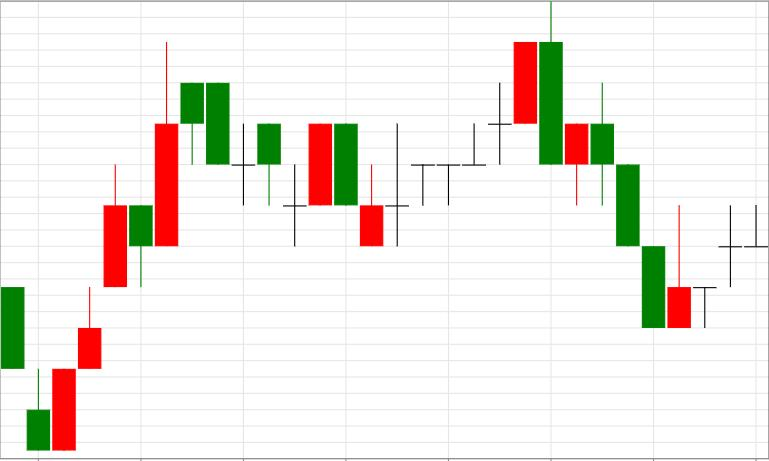bearish_engulfing_fall: (360, 1, 563, 248)
